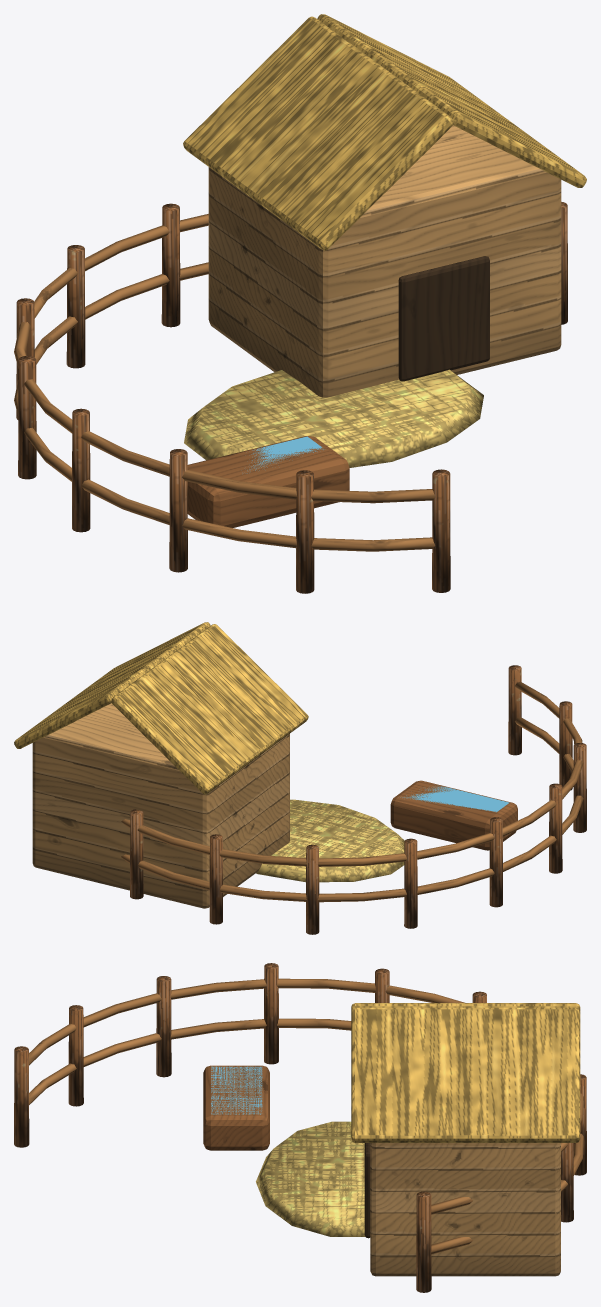
File: goose_house.glb
3 views of the same model, one above another, from view 1: azimuth 30°, elevation 25°; view 2: azimuth 150°, elevation 25°; view 3: azimuth 270°, elevation 25° (orthographic). The views are drawn at different scales.
Visible parts, largest first — view 1: GooseHouse; view 2: GooseHouse; view 3: GooseHouse.
Boxes of the visible parts, bbox=[...] form: GooseHouse: bbox=[14, 14, 586, 593]; GooseHouse: bbox=[14, 622, 586, 934]; GooseHouse: bbox=[14, 963, 586, 1292].
Size of the model in its own units: 2.91 by 1.3 by 3.
Materials: 1 (1 with a texture image).
